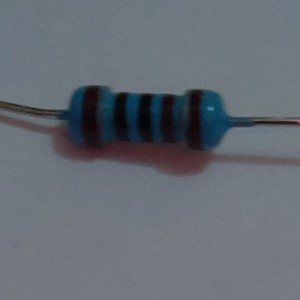black_band: (110, 89, 131, 145), (134, 91, 156, 144)
brown_band: (76, 83, 105, 149), (183, 86, 205, 154), (158, 91, 179, 145)
